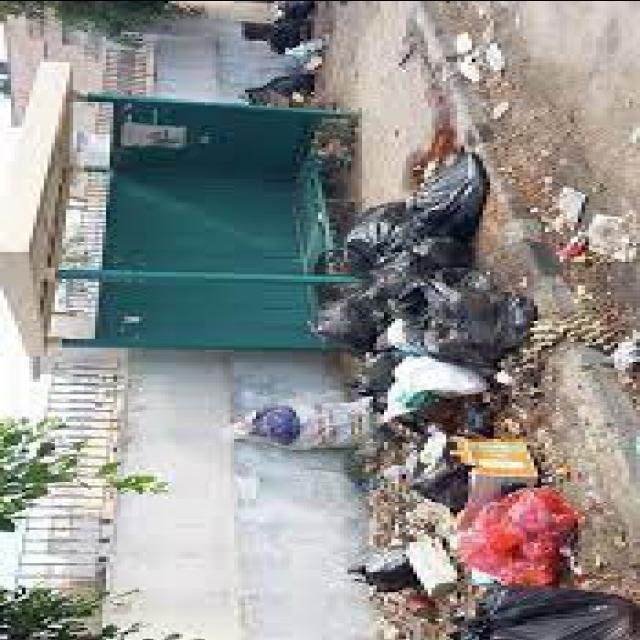Trashbag: (430, 268, 537, 371), (325, 268, 418, 358), (348, 202, 460, 276), (424, 150, 493, 225)
